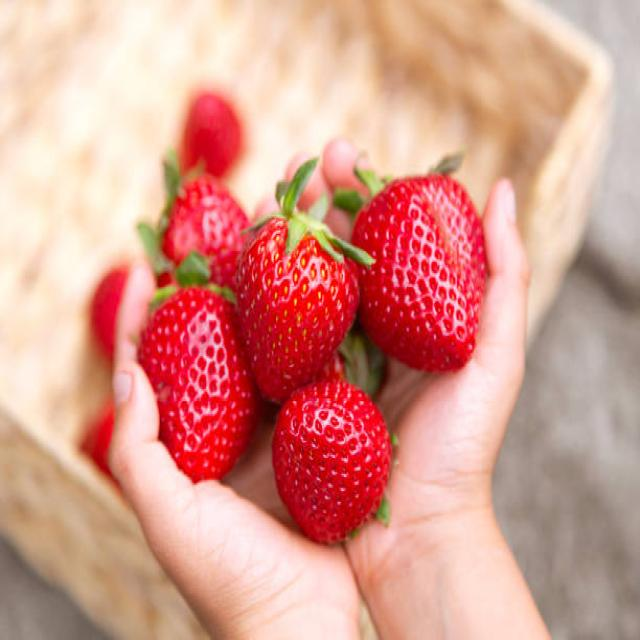Healthy Fruit: (351, 173, 485, 375), (134, 285, 269, 482), (232, 215, 360, 400), (271, 379, 393, 545)
